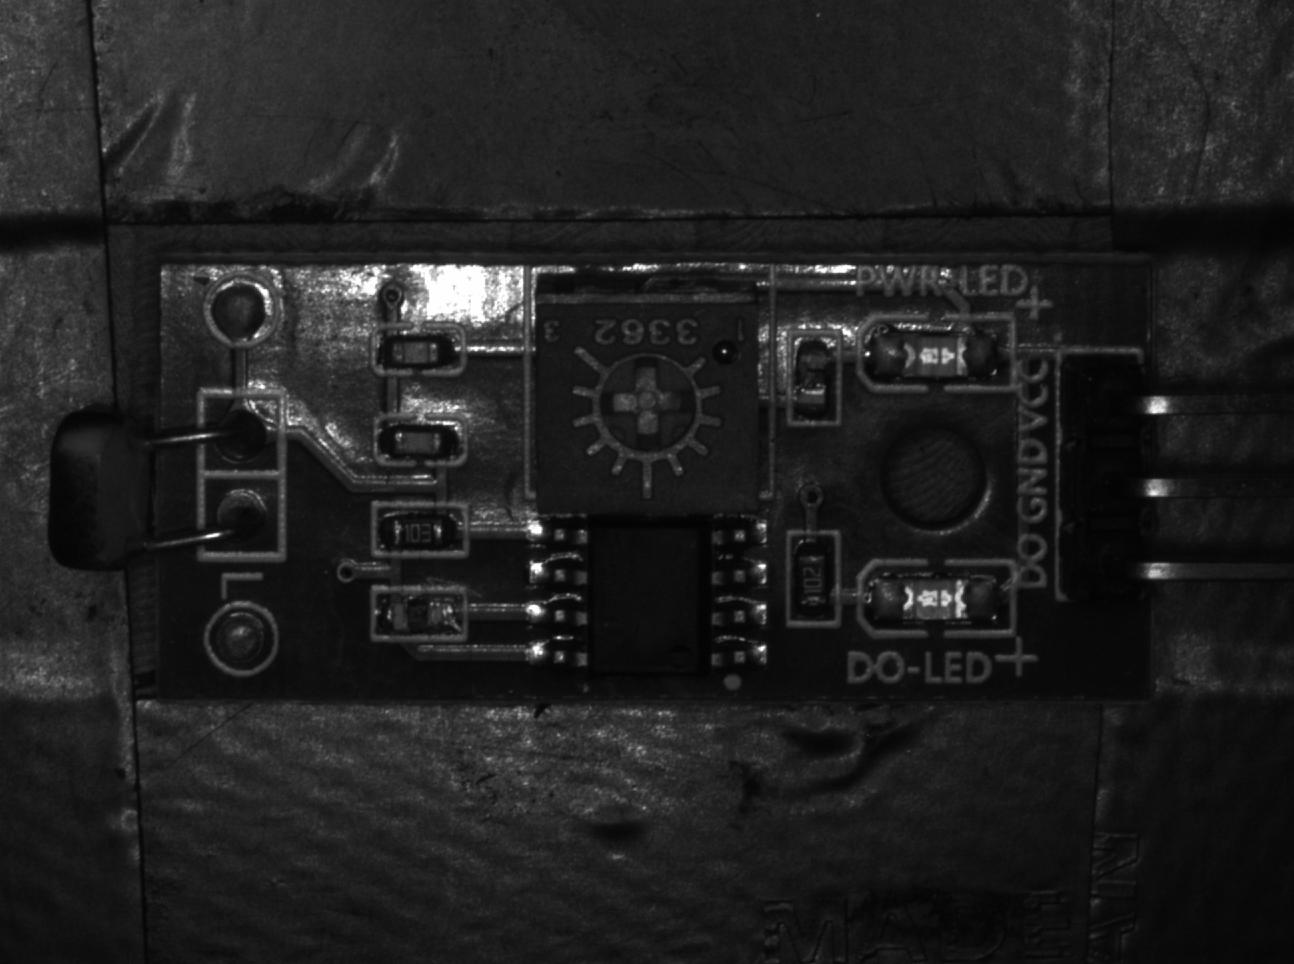miss: (784, 333, 845, 426), (375, 579, 463, 644)
ok: (368, 501, 470, 563), (786, 529, 838, 631), (373, 324, 465, 380), (370, 416, 468, 468)
